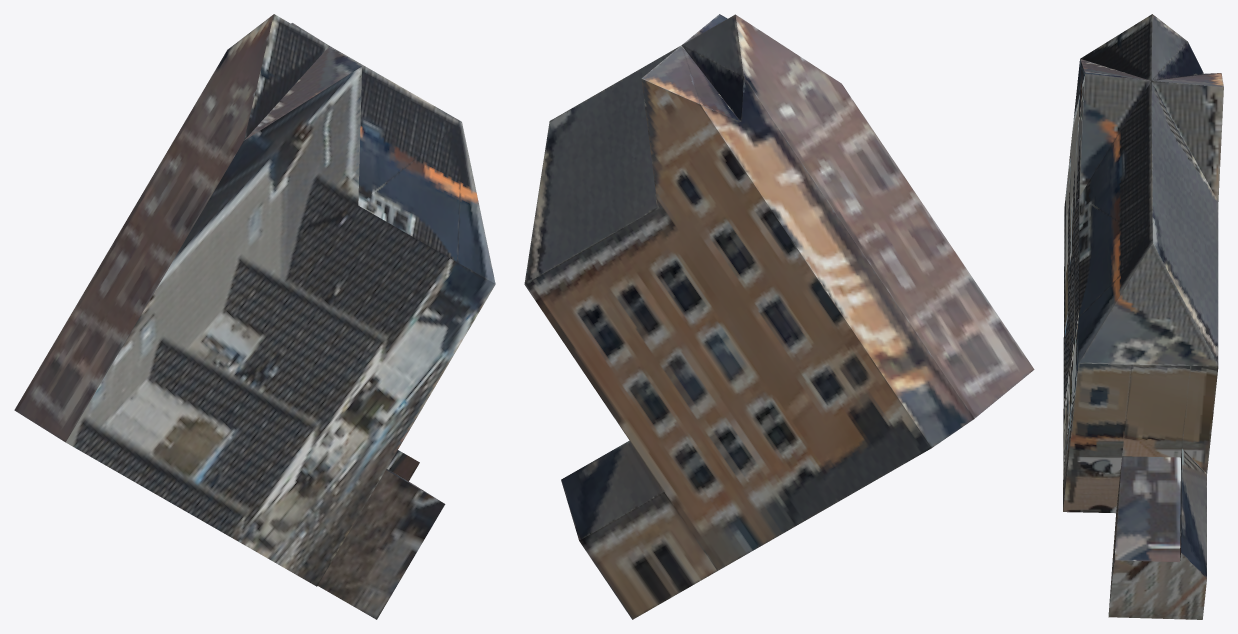
3 renders of one model, left to right at view 1: azimuth 30°, elevation 25°; view 2: azimuth 150°, elevation 25°; view 3: azimuth 270°, elevation 25°, orthographic. The views are drawn at different scales.
Parts seen in each view (by area): view 1: BAG_0599100000671719 (×3); view 2: BAG_0599100000671719 (×4); view 3: BAG_0599100000671719 (×4).
Part boxes in pixels (box(x1,y1,x2,y2)): BAG_0599100000671719 (×3): box(14, 14, 495, 619); BAG_0599100000671719 (×4): box(524, 14, 1034, 619); BAG_0599100000671719 (×4): box(1063, 14, 1223, 619).
Size of the model in its own units: 19.64 by 25.89 by 6.62.
Materials: 6 (6 with a texture image).
